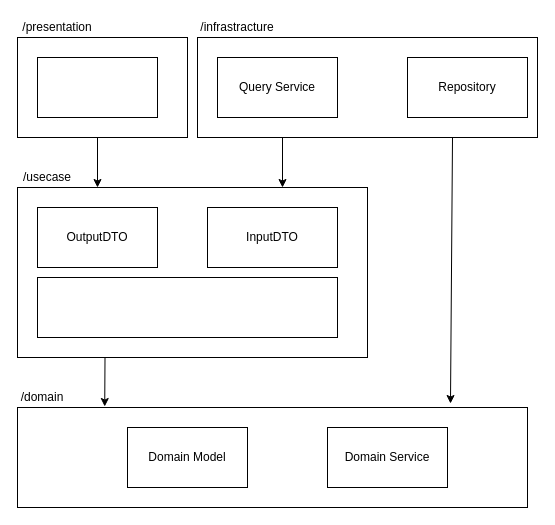
Image size: 555x525. Some labels were removed from this diagram. Here are the shapes that lost their labels. From the top down, the centre of each, then its label:
At (x=97, y=87): "Handler".
At (x=187, y=307): "Usecase".
